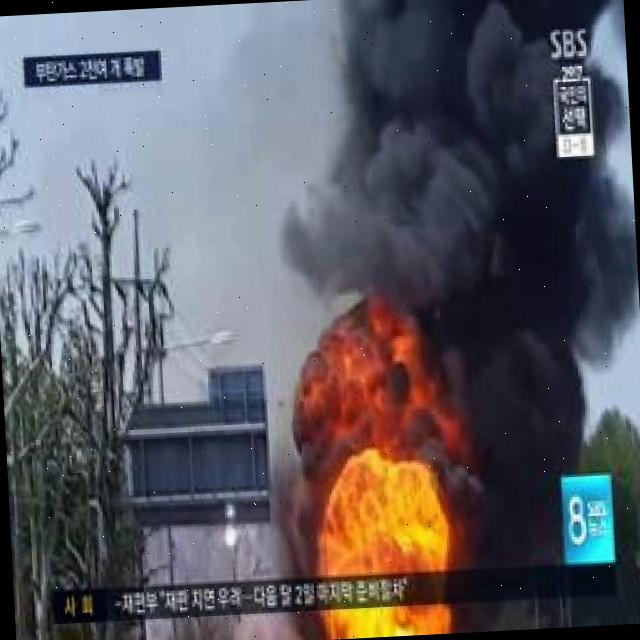fire: (310, 467, 446, 584), (317, 608, 456, 640)
